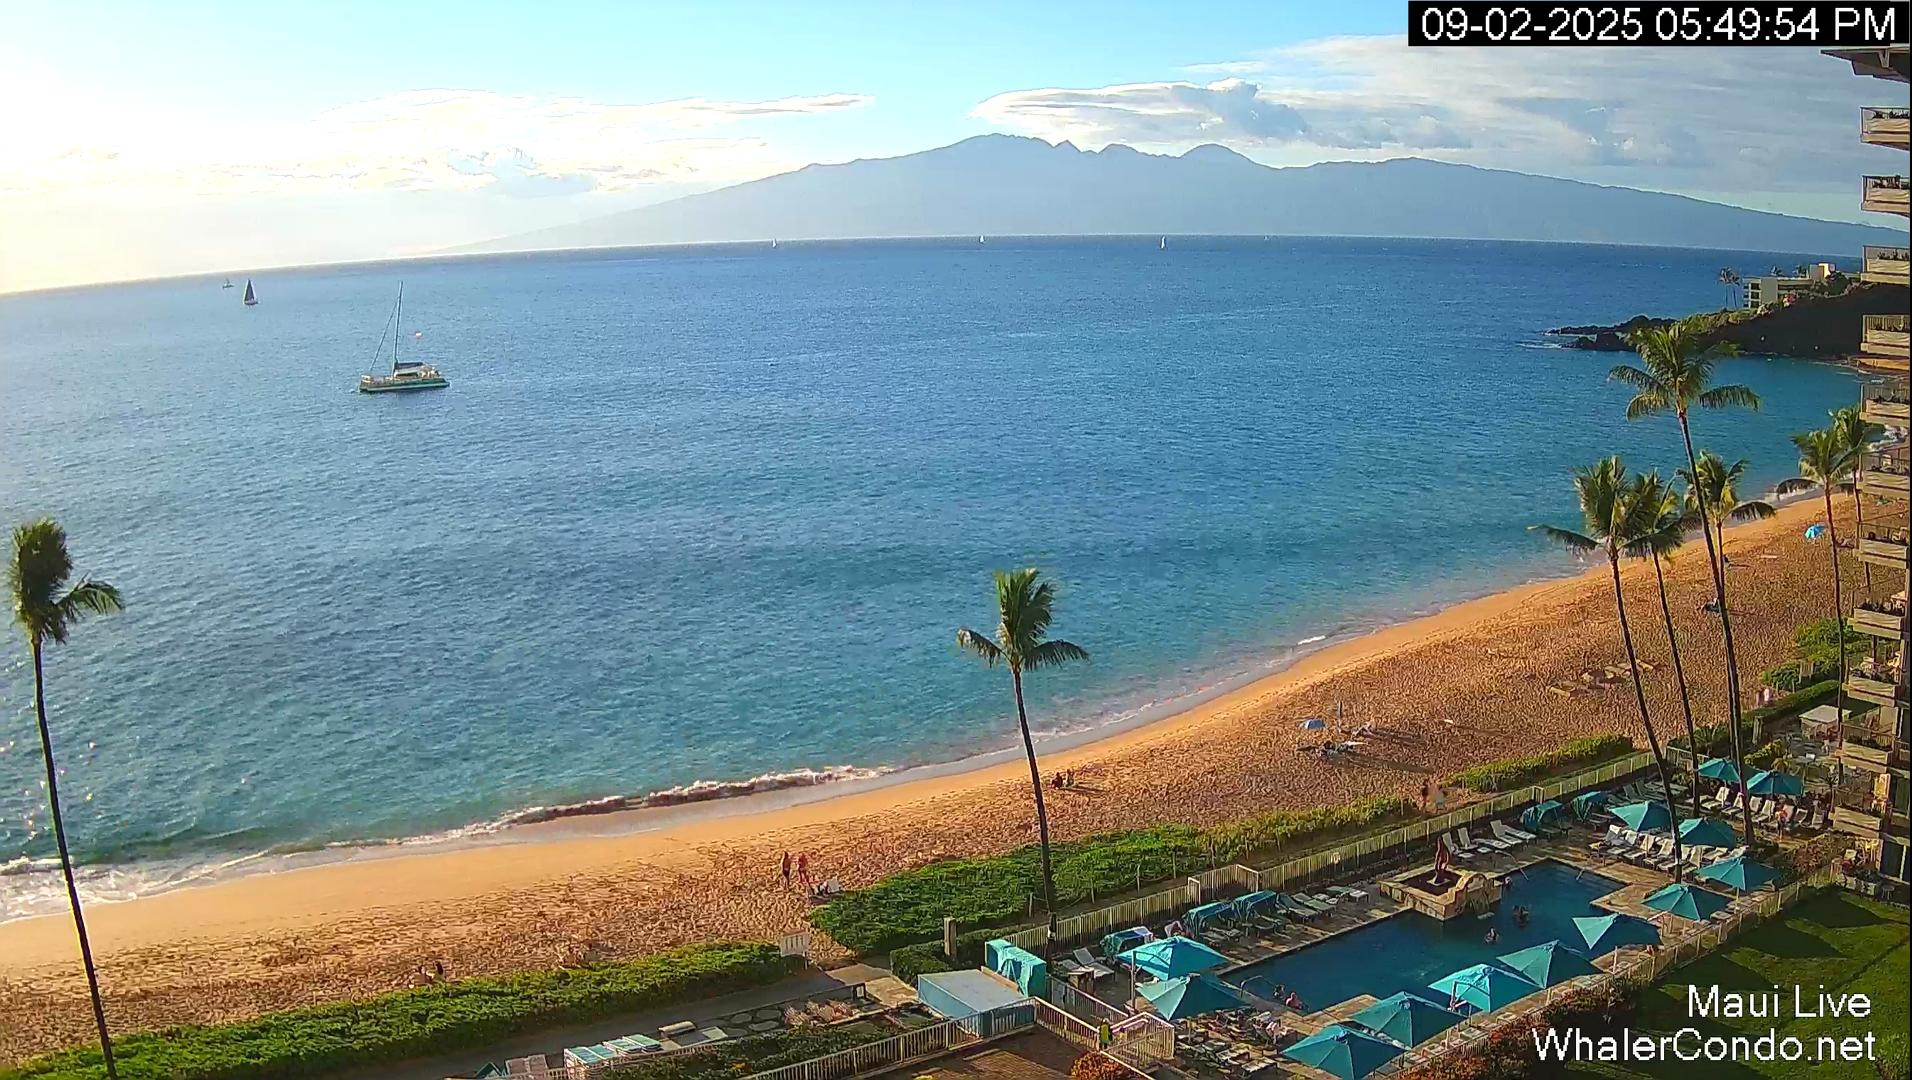boat: (358, 280, 450, 394), (242, 278, 258, 306), (222, 278, 235, 290), (1158, 234, 1166, 250), (771, 239, 779, 248), (979, 234, 986, 244)
person: (1098, 1018, 1114, 1051), (780, 850, 792, 891), (1417, 777, 1430, 814), (797, 852, 810, 884), (1516, 905, 1534, 928), (1286, 991, 1304, 1011), (1484, 927, 1499, 946), (1502, 875, 1517, 894), (1169, 922, 1184, 937), (1051, 772, 1063, 789), (1274, 983, 1286, 1000), (432, 958, 443, 974), (1763, 684, 1770, 705), (1066, 769, 1074, 786)
